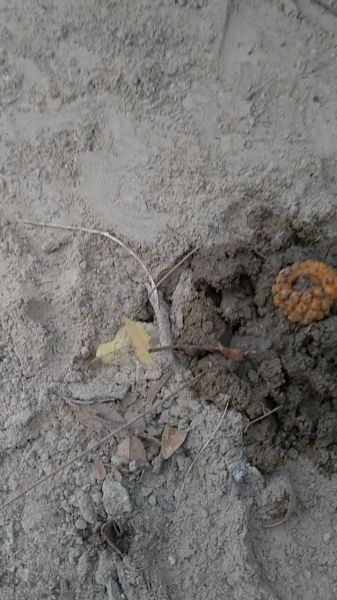eggs: (268, 254, 337, 330)
